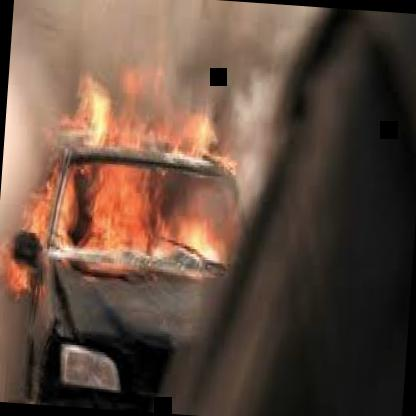fire: (0, 55, 256, 299)
